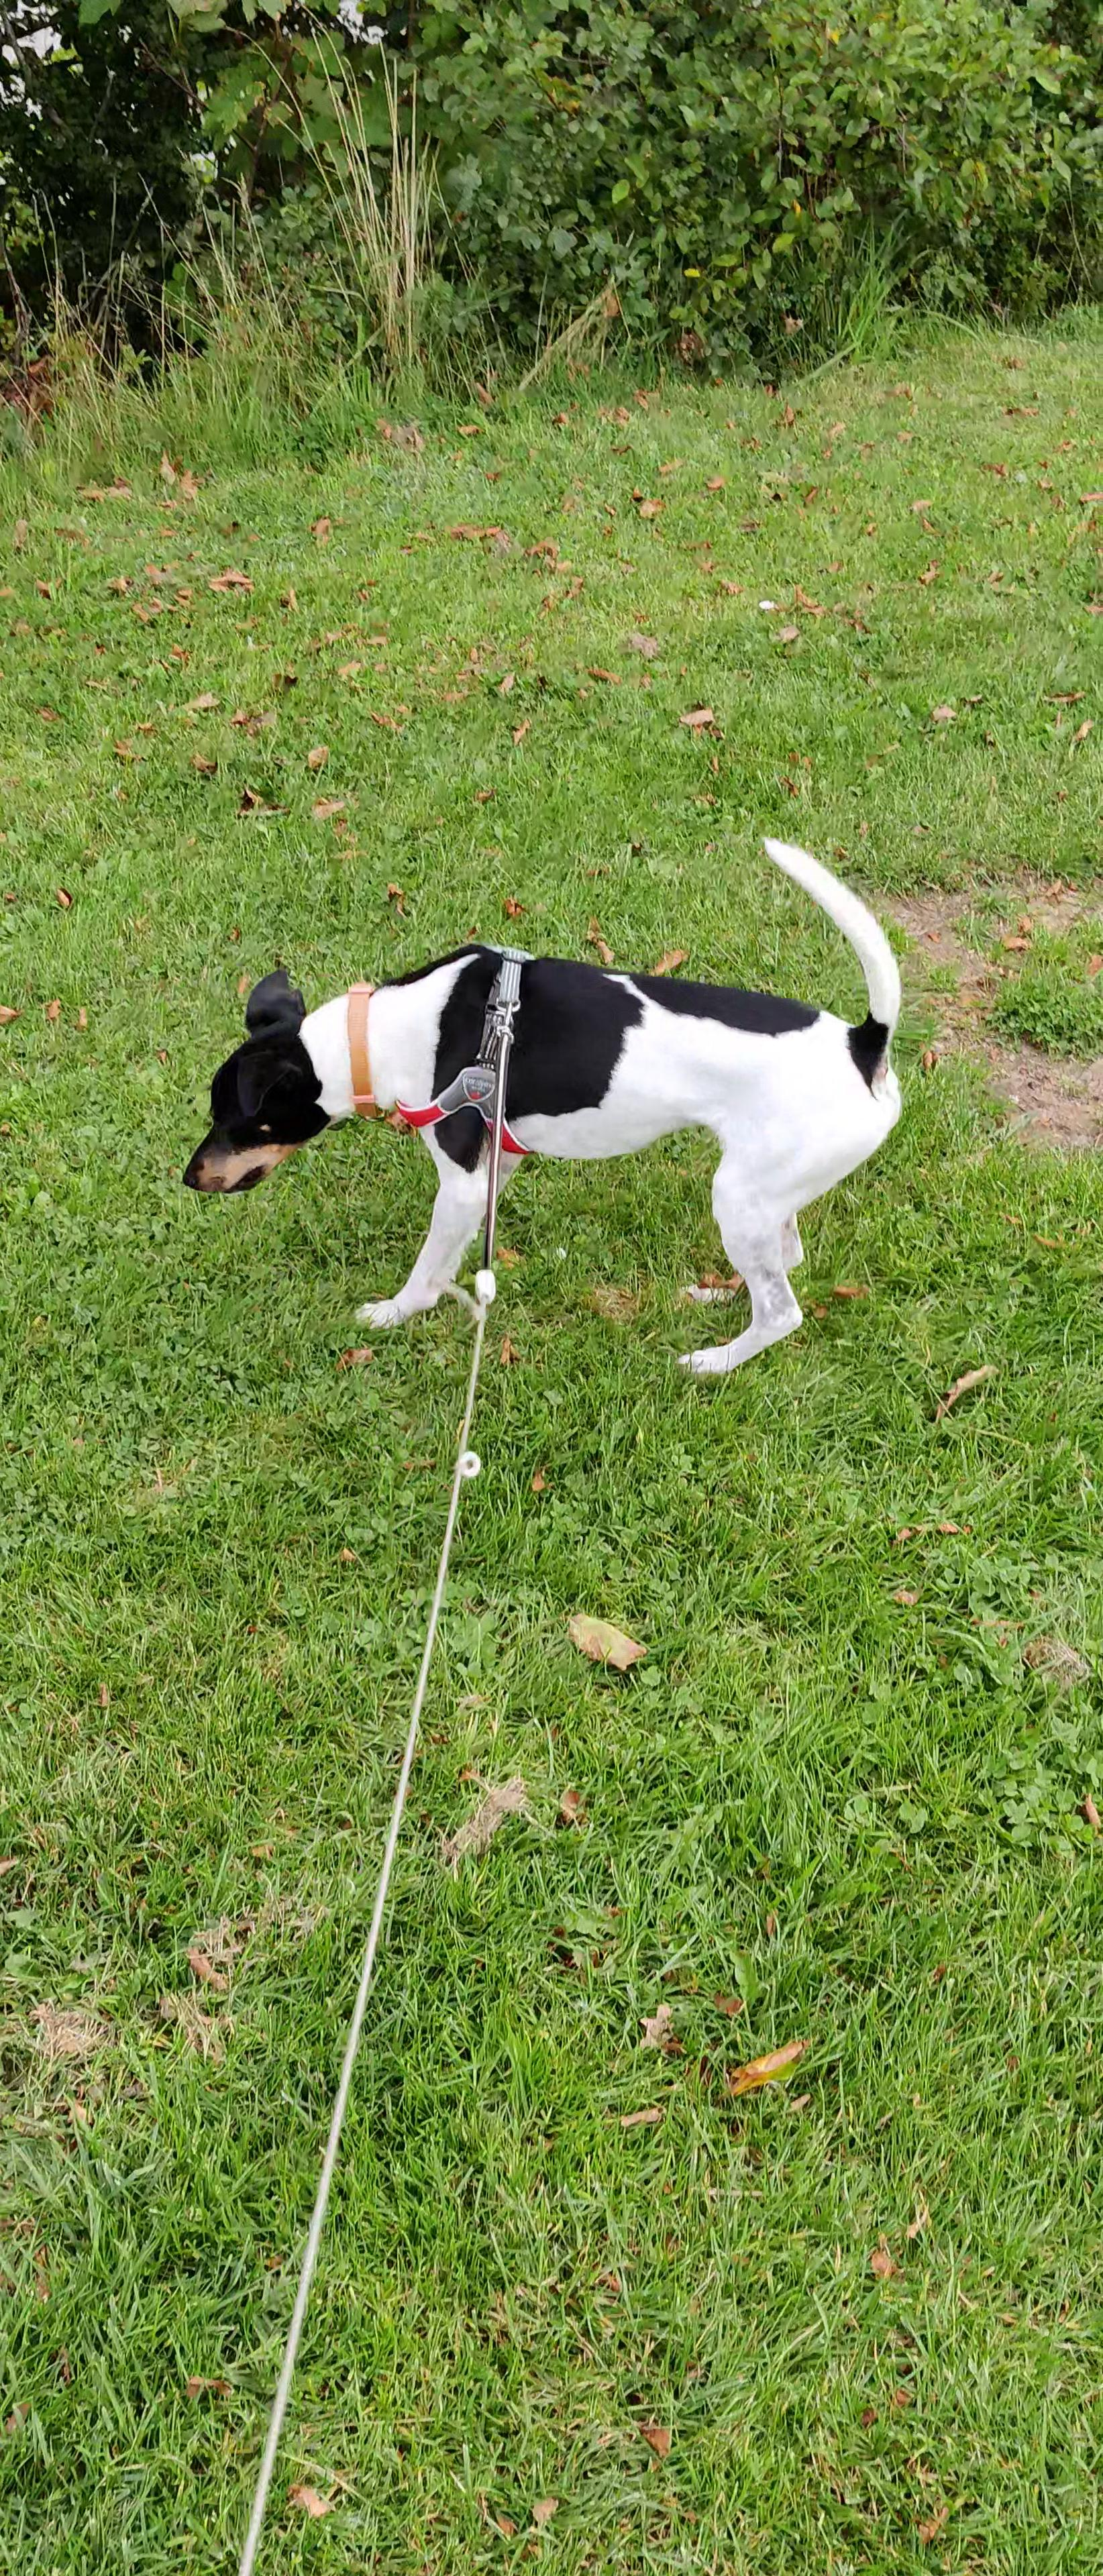Dog: (169, 831, 939, 1390)
